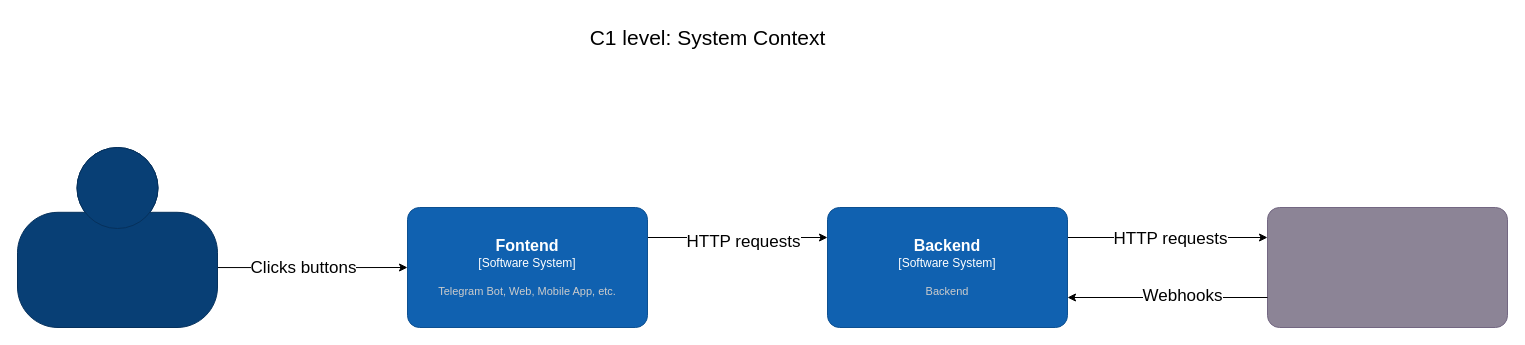
This 1525x345 diagram has some shape labels left out. Each missing label, with the box of its shape:
User [Person] User: (16, 146, 218, 328)
Юкасса sandbox API [Software System] Description of external software system.: (1266, 206, 1508, 328)
